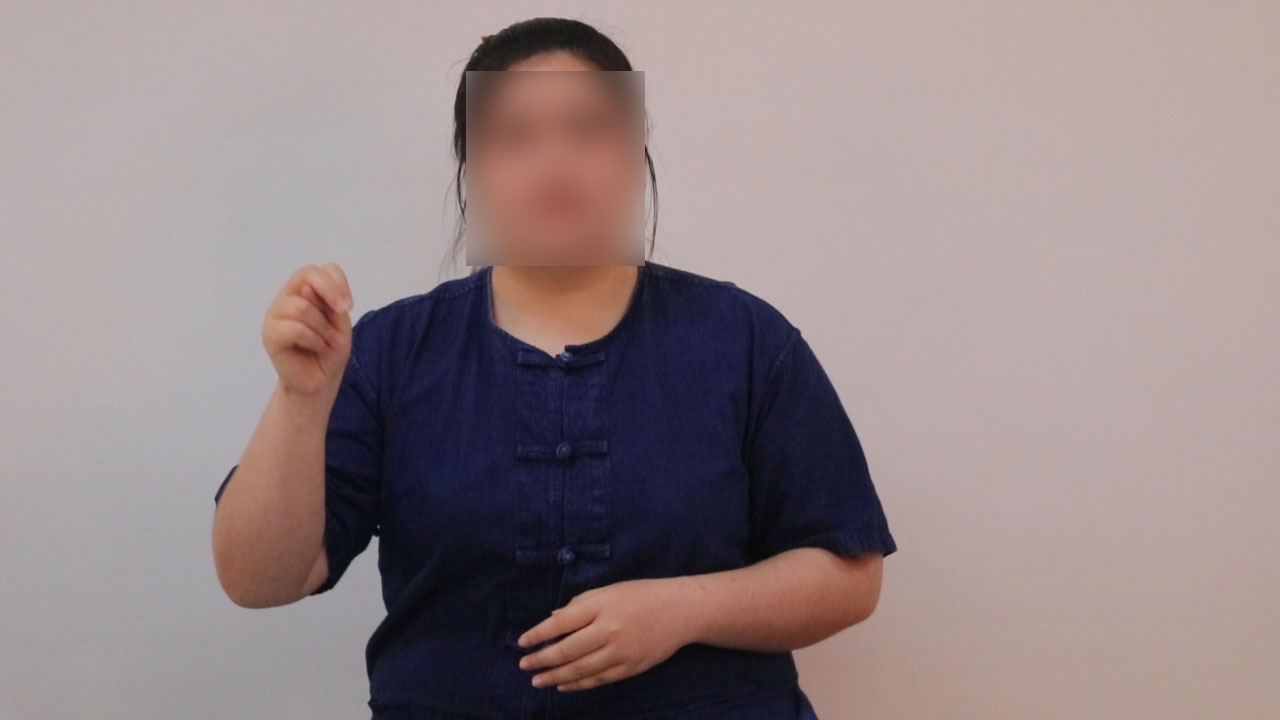nor: (251, 256, 365, 391)
